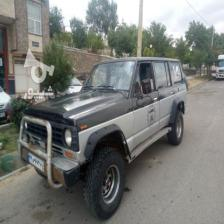plate: (27, 150, 45, 174)
